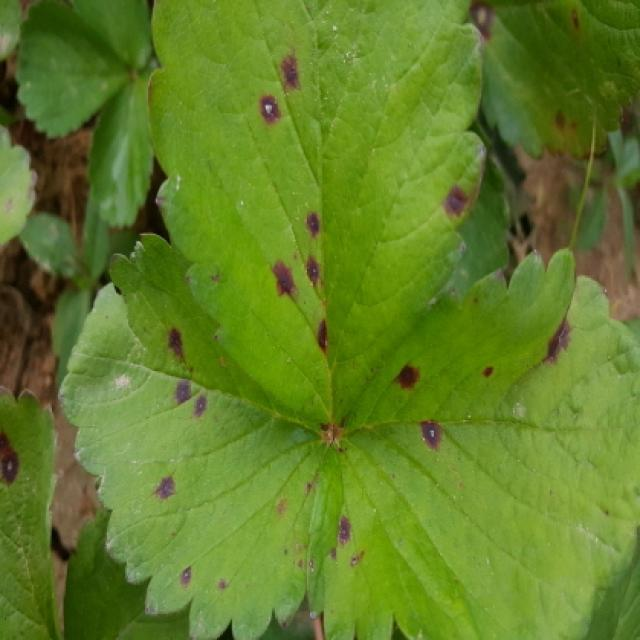Leaf Spot: (145, 0, 488, 436), (306, 245, 640, 638), (60, 232, 337, 638), (472, 0, 640, 162), (2, 386, 63, 638), (2, 125, 39, 254)
